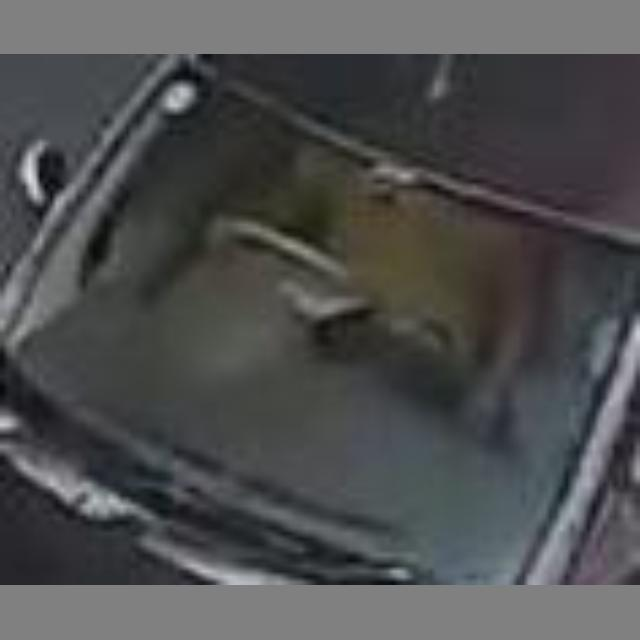tidak-pakai: (233, 114, 521, 396)
